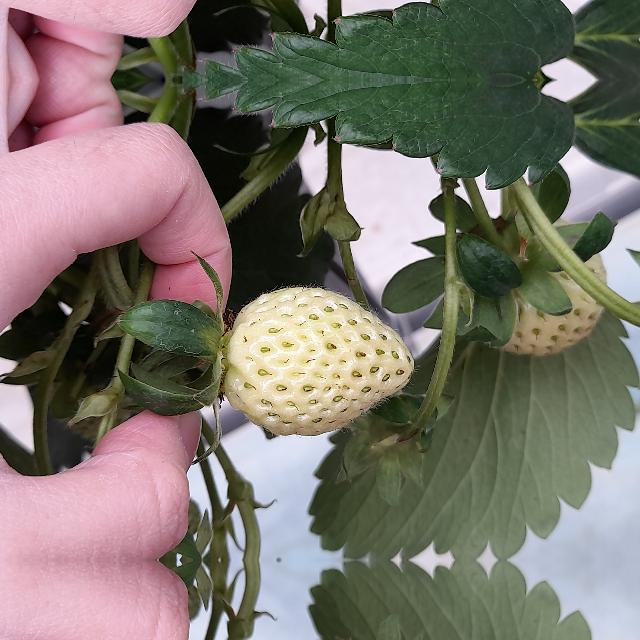Health_25: (224, 287, 414, 435), (476, 227, 606, 357)
